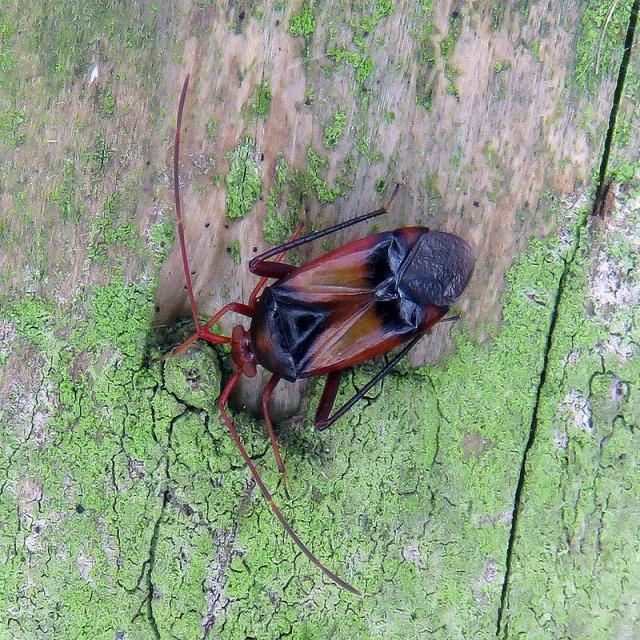Miridae-Adult-: (141, 69, 485, 473)
